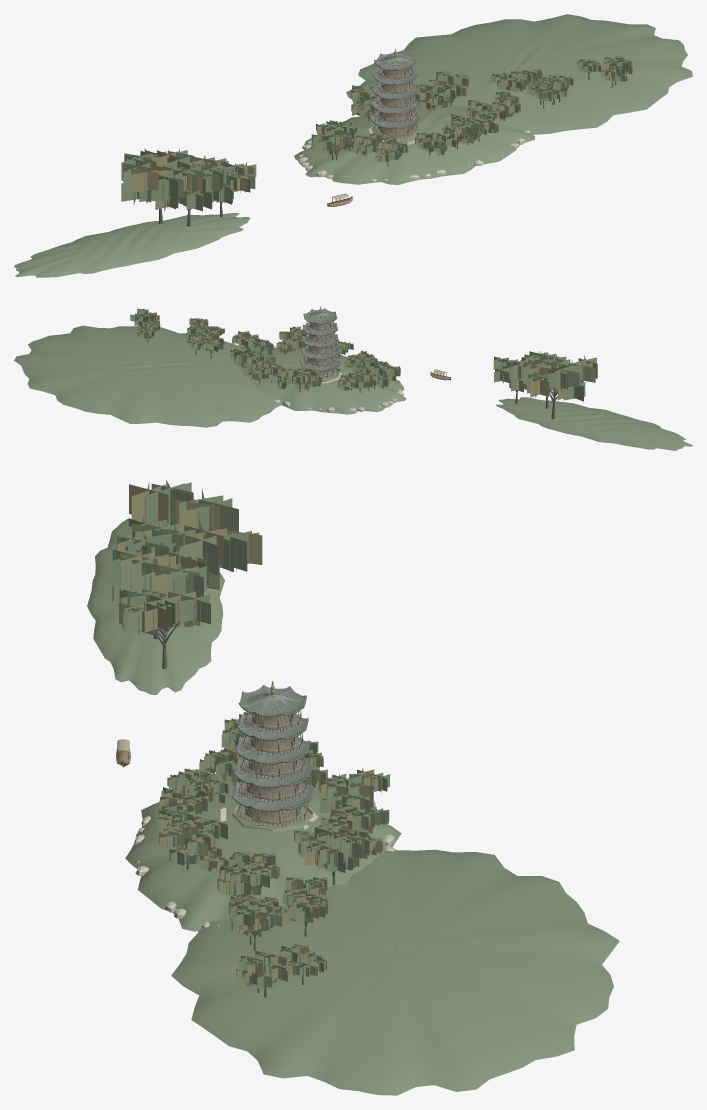
Rendered from leifeng.glb.
3 renders of one model, top to bottom at view 1: azimuth 30°, elevation 25°; view 2: azimuth 150°, elevation 25°; view 3: azimuth 270°, elevation 25°, orthographic. The views are drawn at different scales.
Parts seen in each view (by area): view 1: earth, crown0, crown2, crown1, ridge, roof, wooddark, woodlight, stone, wood, bark; view 2: earth, crown0, crown1, crown2, ridge, roof, wooddark, woodlight, bark, stone2; view 3: earth, crown0, crown1, crown2, ridge, roof, wooddark, woodlight.
Boxes of the visible parts, left/top/right/bottom form: earth: left=14, top=14, right=692, bottom=277; crown0: left=124, top=55, right=633, bottom=211; crown2: left=131, top=55, right=632, bottom=211; crown1: left=121, top=57, right=627, bottom=209; ridge: left=370, top=52, right=421, bottom=128; roof: left=370, top=52, right=420, bottom=127; wooddark: left=369, top=51, right=421, bottom=136; woodlight: left=327, top=67, right=417, bottom=206; stone: left=302, top=124, right=528, bottom=182; wood: left=332, top=67, right=418, bottom=203; bark: left=138, top=71, right=616, bottom=226; earth: left=14, top=325, right=692, bottom=450; crown0: left=131, top=308, right=592, bottom=393; crown1: left=134, top=309, right=595, bottom=401; crown2: left=130, top=308, right=597, bottom=399; ridge: left=300, top=308, right=340, bottom=370; roof: left=300, top=309, right=339, bottom=370; wooddark: left=300, top=309, right=340, bottom=377; woodlight: left=302, top=321, right=450, bottom=379; bark: left=147, top=338, right=563, bottom=419; stone2: left=273, top=346, right=397, bottom=412; earth: left=87, top=518, right=619, bottom=1095; crown0: left=111, top=483, right=389, bottom=988; crown1: left=112, top=480, right=384, bottom=985; crown2: left=115, top=482, right=382, bottom=986; ridge: left=232, top=685, right=313, bottom=810; roof: left=233, top=686, right=312, bottom=810; wooddark: left=231, top=686, right=313, bottom=824; woodlight: left=116, top=711, right=308, bottom=826.
Size of the model in its own units: 168 by 21.23 by 64.23.
